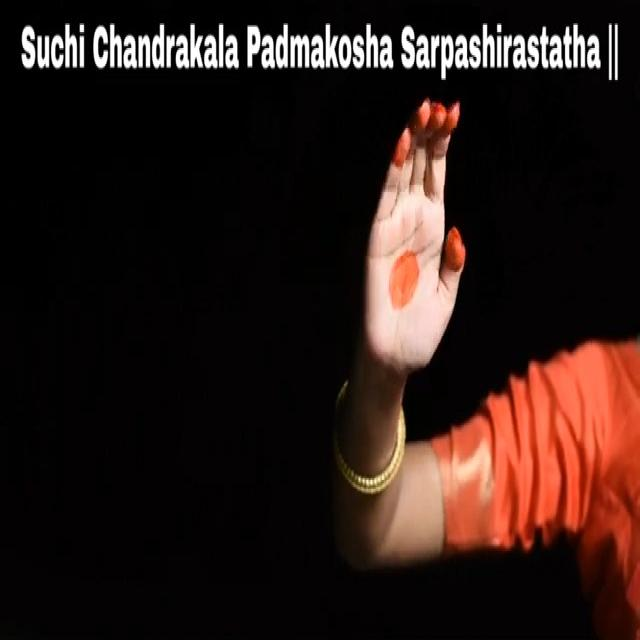Sarpashirsha: (349, 87, 492, 372)
bangle: (318, 396, 414, 502)
text: (9, 9, 622, 92)
